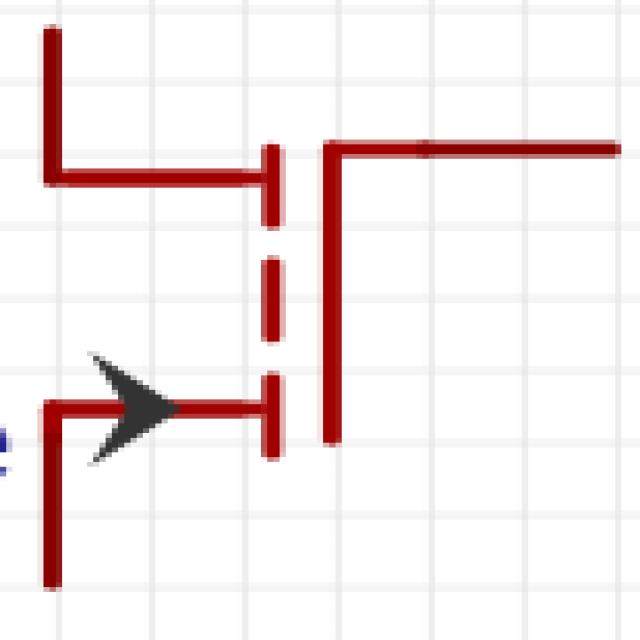nmos: (28, 12, 586, 586)
